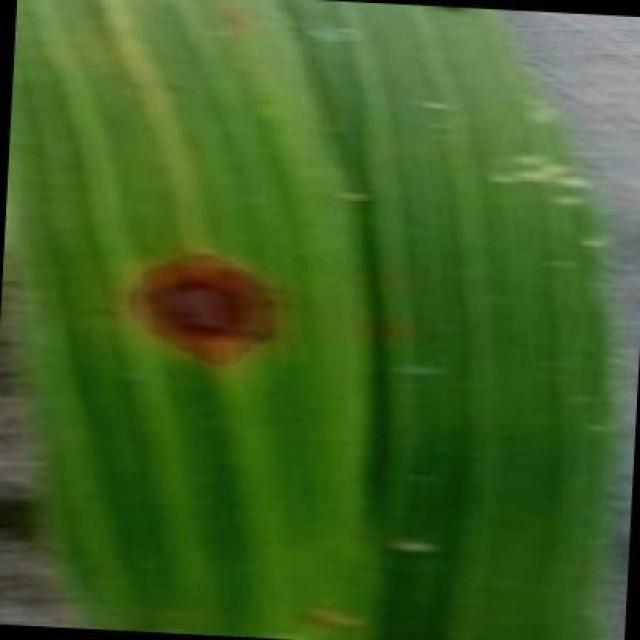Leaf_Blast: (109, 236, 300, 379), (277, 589, 375, 640), (376, 523, 456, 580), (9, 121, 56, 188), (200, 0, 262, 48), (150, 66, 195, 105), (12, 69, 46, 117), (366, 311, 408, 347), (81, 298, 121, 331)
